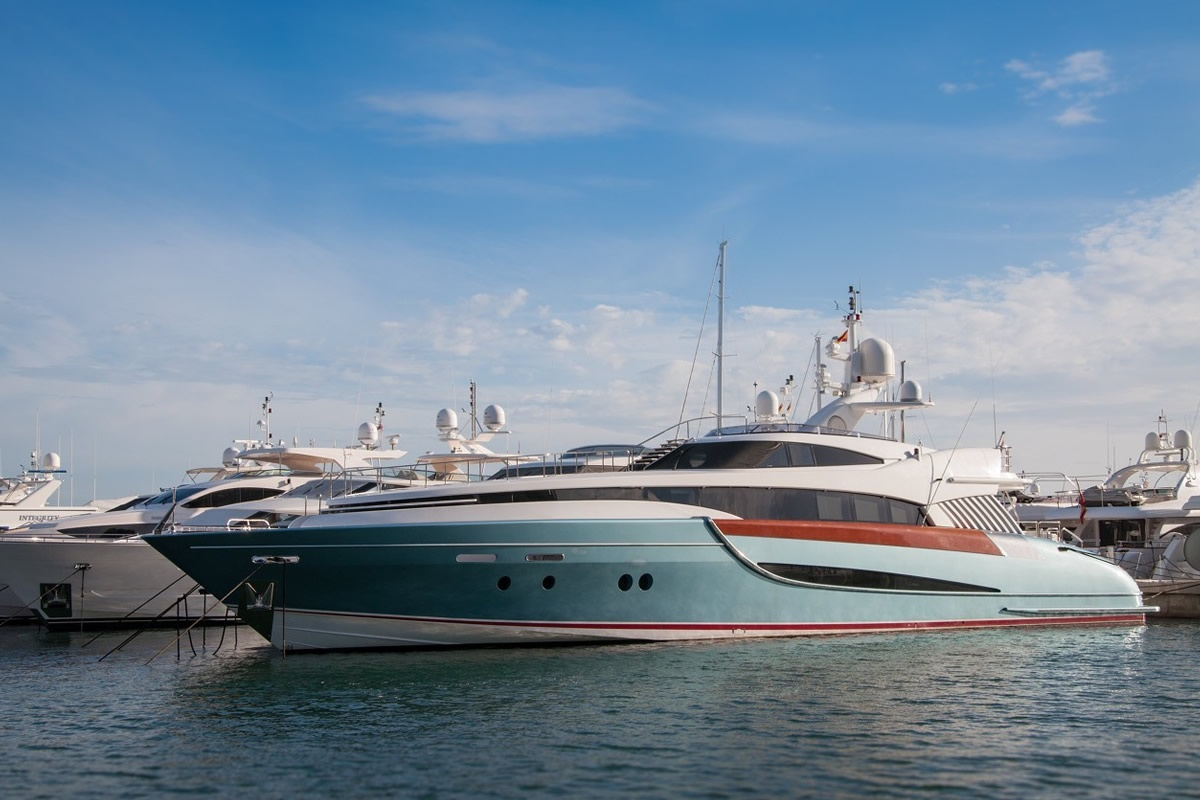yacht: (129, 340, 1144, 648)
